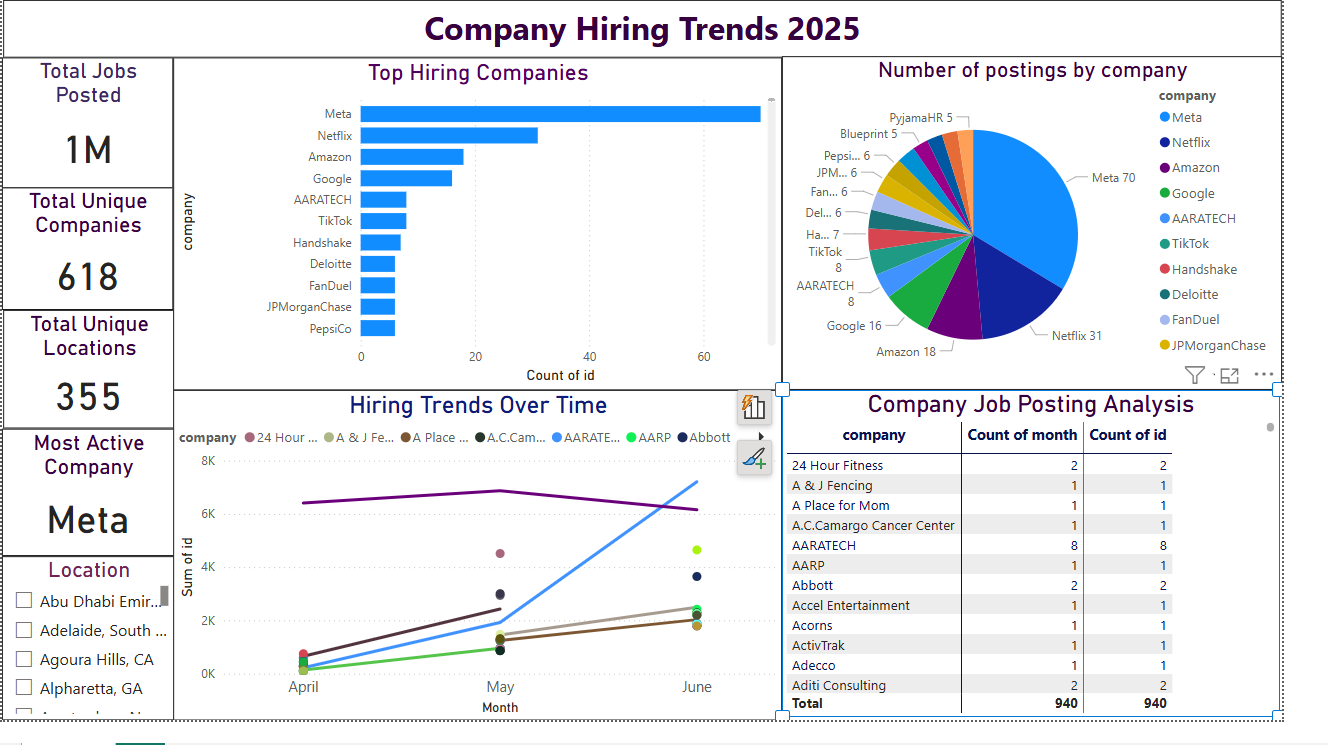

This screenshot's page, from the dashboard's own definition file:
{"tool":"powerbi","page":{"name":"Page 1","canvas":[1280,720],"ordinal":0},"visuals":[{"type":"card","title":"Total Jobs Posted","fields":{"Values":["Sum(Datajobs.id)"]},"box":[0,57.5,171.2,130],"z":0},{"type":"card","title":"Total Unique Companies","fields":{"Values":["Count(Datajobs.company)"]},"box":[0,187.5,171.2,122.5],"z":1000},{"type":"card","title":"Total Unique Locations","fields":{"Values":["Count(Datajobs.location)"]},"box":[1.2,310,171.2,118.8],"z":2000},{"type":"card","title":"Most Active Company","fields":{"Values":["Datajobs.Most Active Company"]},"box":[0,428.8,172.5,127.5],"z":3000},{"type":"textbox","box":[1.2,0,1278.8,57.5],"z":4000},{"type":"slicer","title":"Location","fields":{"Values":["Datajobs.location"]},"box":[0,541.2,171.2,178.8],"z":5000},{"type":"barChart","title":"Top Hiring Companies","fields":{"Category":["Datajobs.company"],"Y":["CountNonNull(Datajobs.id)"]},"box":[171.2,57.5,608.8,332.5],"z":6000},{"type":"lineChart","title":"Hiring Trends Over Time","fields":{"Category":["Datajobs.date_posted.Variation.Date Hierarchy.Month"],"Series":["Datajobs.company"],"Y":["Sum(Datajobs.id)"]},"box":[171.2,390,608.8,330],"z":7000},{"type":"pieChart","title":"Number of postings by company","fields":{"Y":["CountNonNull(Datajobs.id)"],"Category":["Datajobs.company"]},"box":[780,56.2,500,333.8],"z":8000},{"type":"pivotTable","title":"Company Job Posting Analysis","fields":{"Rows":["Datajobs.company"],"Values":["CountNonNull(Datajobs.month)","CountNonNull(Datajobs.id)"]},"box":[780,390,498,328],"z":9000}]}

Visuals, with their boxes in screenshot pixels (x1, y1, x2, y2), scaled from the page's 1280x720 canvas onto the 1328x745 screenshot:
"Total Jobs Posted" card: x1=0 y1=59 x2=178 y2=194
"Total Unique Companies" card: x1=0 y1=194 x2=178 y2=321
"Total Unique Locations" card: x1=1 y1=321 x2=179 y2=444
"Most Active Company" card: x1=0 y1=444 x2=179 y2=576
textbox: x1=1 y1=0 x2=1327 y2=59
"Location" slicer: x1=0 y1=560 x2=178 y2=744
"Top Hiring Companies" barChart: x1=178 y1=59 x2=809 y2=404
"Hiring Trends Over Time" lineChart: x1=178 y1=404 x2=809 y2=744
"Number of postings by company" pieChart: x1=809 y1=58 x2=1327 y2=404
"Company Job Posting Analysis" pivotTable: x1=809 y1=404 x2=1326 y2=743
